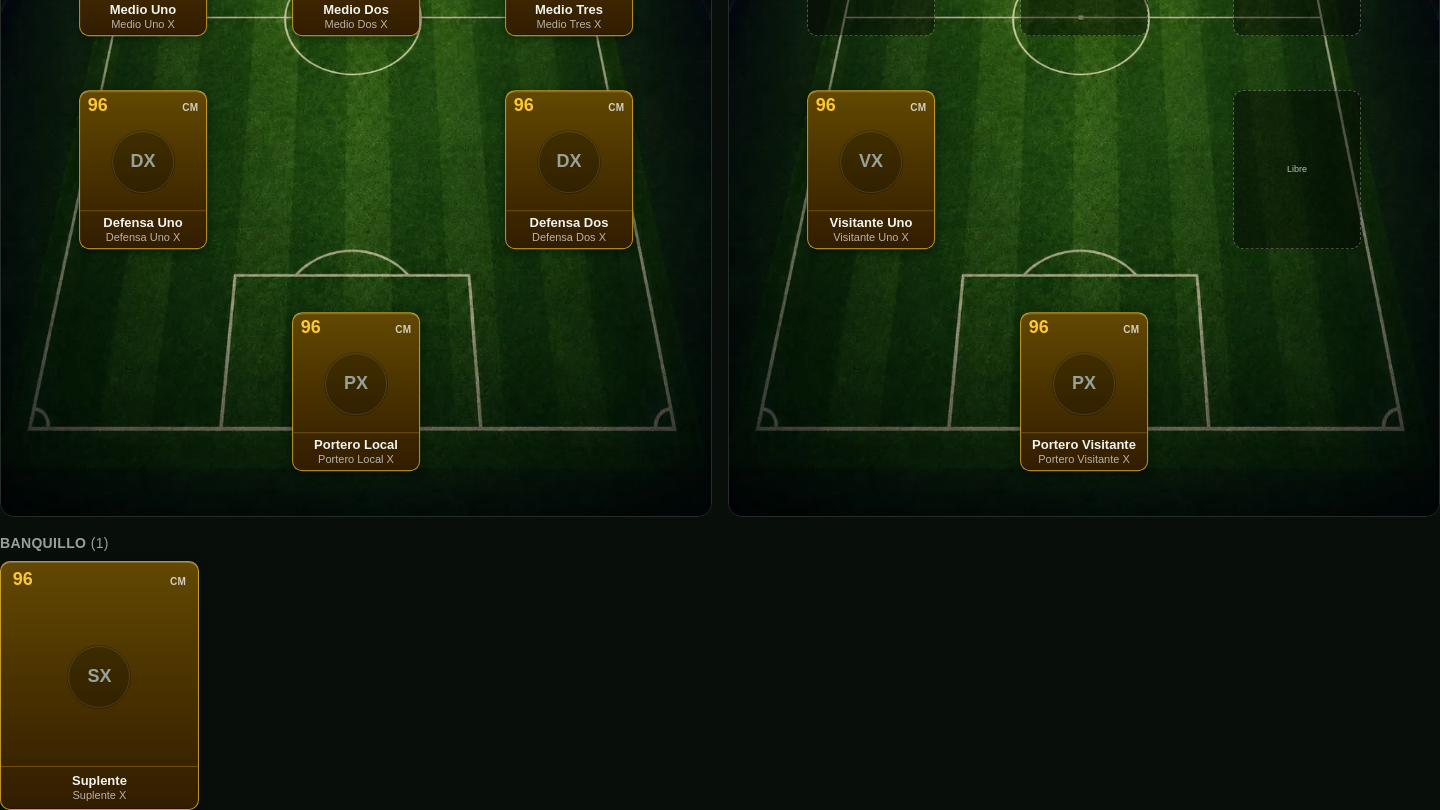
Scenario: PitchLineups › what each side is worth › leaves a bench player out however expensive they are
The width and height of the screenshot is (1440, 810).
(page scrolled)
Click the button with aria-label "Suplente, en el banquillo": (99, 685) [0,561,199,809]
(page scrolled)
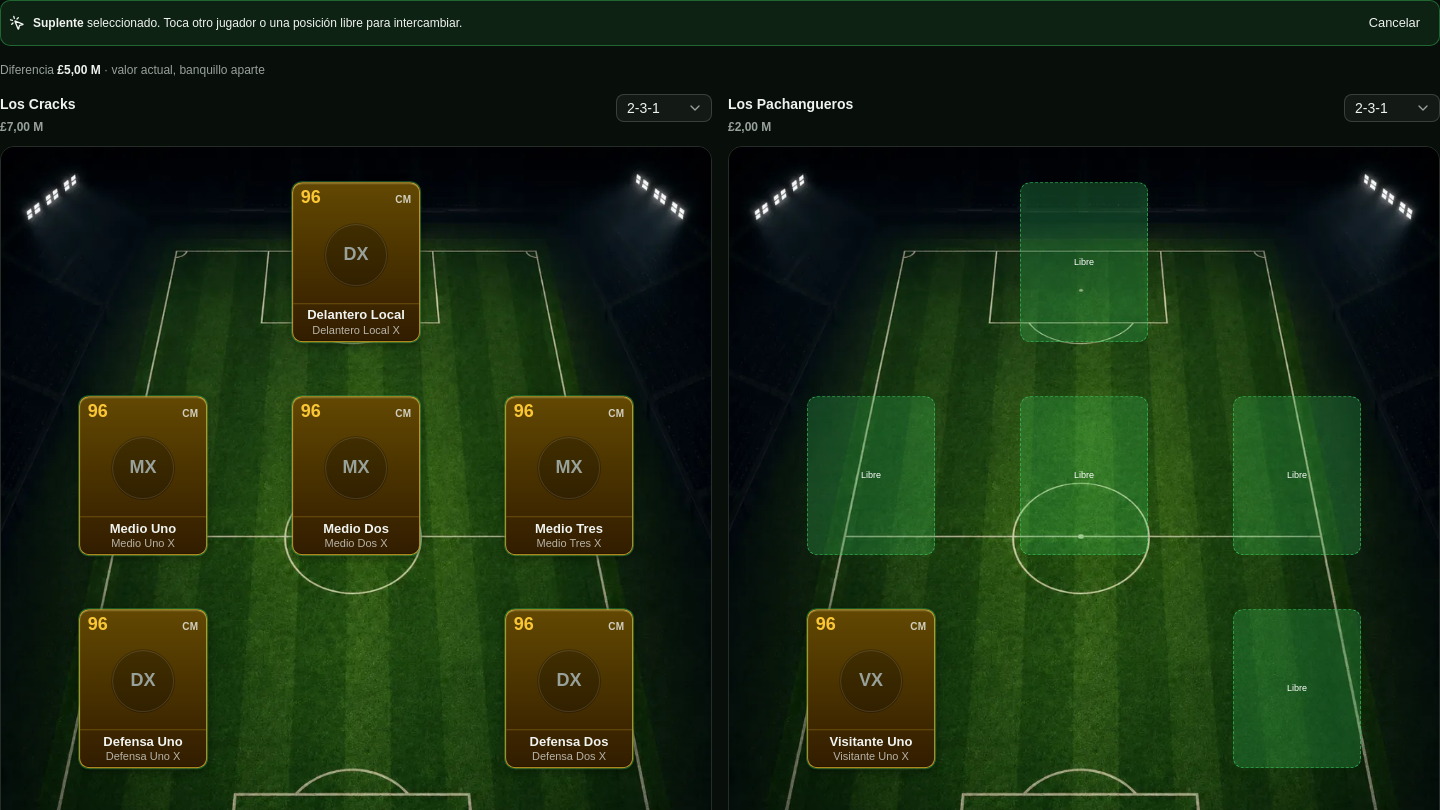
Click the button with aria-label "Delantero Local,": (356, 262) [292,183,420,342]
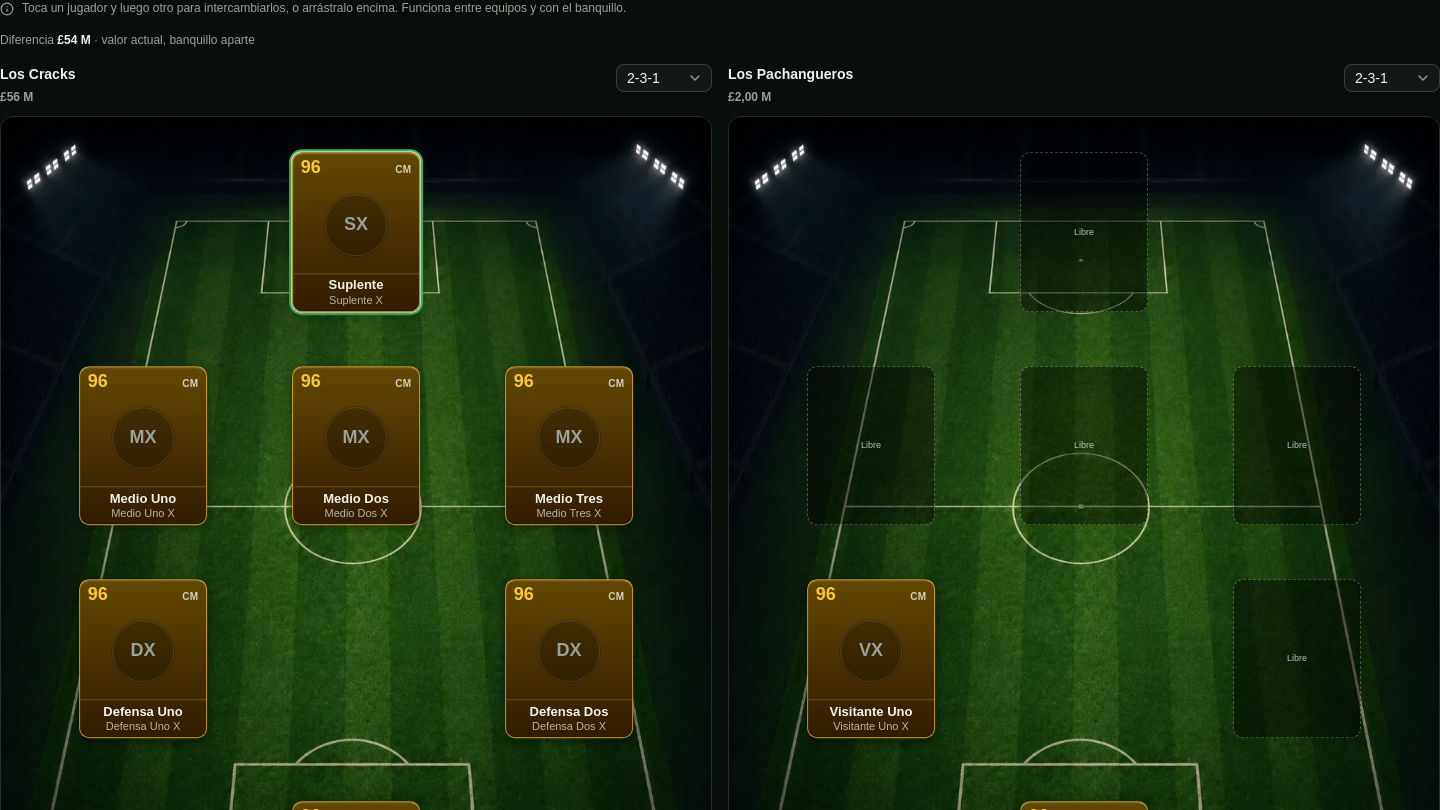
Check: the text titled "£" reads "£56 M", box [0,90,33,104]
